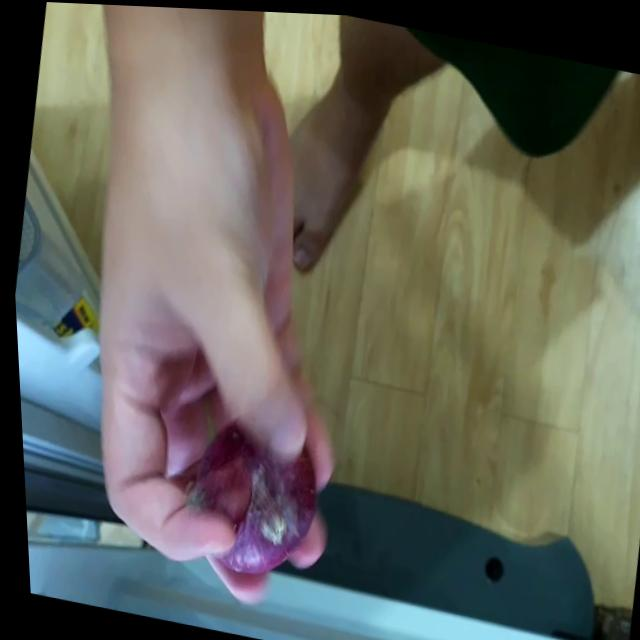onion: (170, 413, 327, 581)
